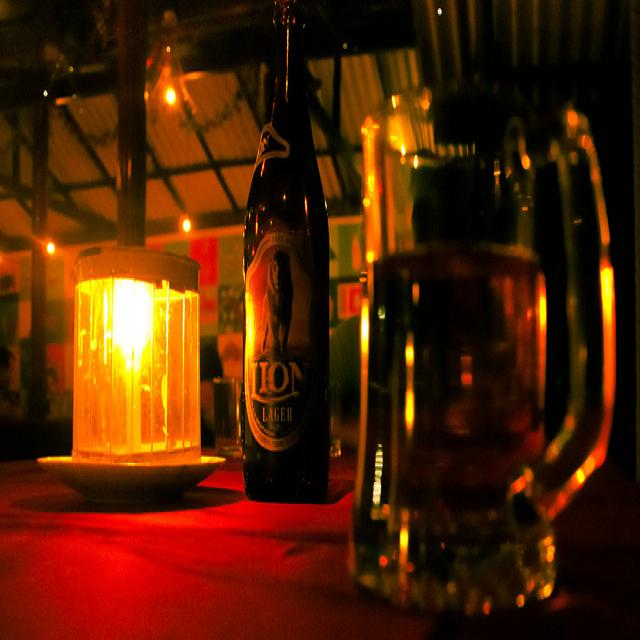Bottle: (236, 0, 340, 498)
Cup: (356, 240, 572, 606), (49, 245, 230, 530)
